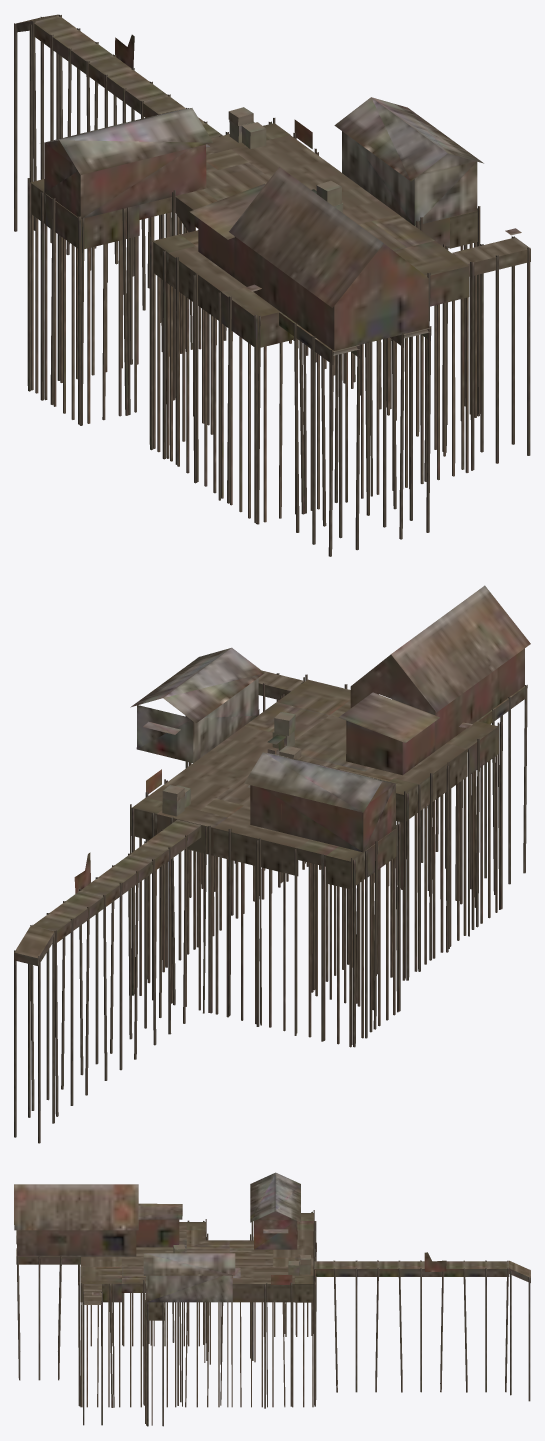
File: fishing_village_c.glb
The picture shows the model from 3 angles, top to bottom: view 1: azimuth 30°, elevation 25°; view 2: azimuth 150°, elevation 25°; view 3: azimuth 270°, elevation 25°; orthographic projection. The views are drawn at different scales.
Parts seen in each view (by area): view 1: fishing_village_c_hlod; view 2: fishing_village_c_hlod; view 3: fishing_village_c_hlod.
Part boxes in pixels (x1,y1,x2,y2): fishing_village_c_hlod: (14, 14, 530, 556); fishing_village_c_hlod: (14, 585, 530, 1143); fishing_village_c_hlod: (14, 1172, 530, 1426).
Size of the model in its own units: 30.13 by 29.18 by 71.72.
1 material, 1 textured.
